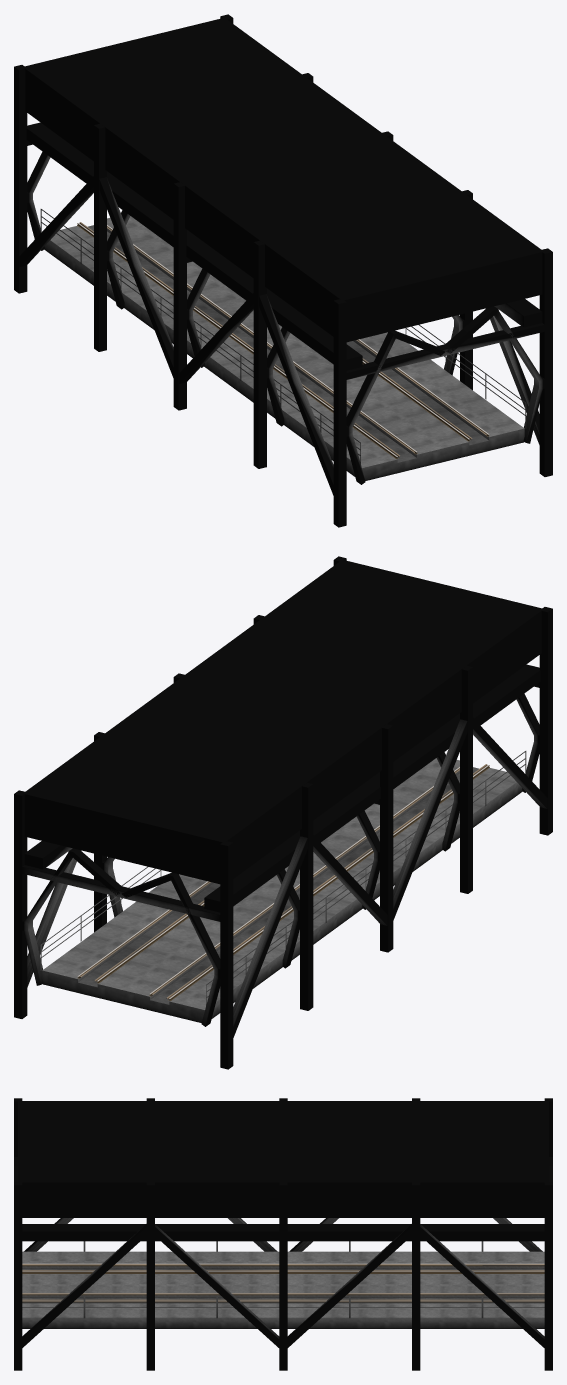
File: NK_KANKU_BRIDGE.glb
The picture shows the model from 3 angles, top to bottom: view 1: azimuth 30°, elevation 25°; view 2: azimuth 150°, elevation 25°; view 3: azimuth 270°, elevation 25°; orthographic projection. The views are drawn at different scales.
Visible parts, largest first — view 1: obj1, R000_RG_R4, R000_RG_L4; view 2: obj1, R000_RG_R4, R000_RG_L4; view 3: obj1, R000_RG_R4, R000_RG_L4.
Boxes of the visible parts, left/top/right/bottom form: obj1: left=14, top=14, right=552, bottom=527; R000_RG_R4: left=79, top=222, right=472, bottom=457; R000_RG_L4: left=107, top=227, right=486, bottom=452; obj1: left=14, top=556, right=552, bottom=1069; R000_RG_R4: left=94, top=764, right=487, bottom=999; R000_RG_L4: left=79, top=769, right=459, bottom=995; obj1: left=14, top=1098, right=552, bottom=1370; R000_RG_R4: left=22, top=1264, right=544, bottom=1294; R000_RG_L4: left=22, top=1270, right=544, bottom=1300.
Bounding box in the file's own units: 38.73 × 38.56 × 102.
5 materials, 4 textured.
